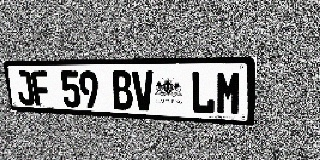5: (60, 71, 82, 108)
9: (78, 71, 100, 109)
B: (111, 71, 133, 110)
F: (30, 71, 51, 106)
J: (15, 71, 35, 106)
L: (191, 71, 215, 114)
M: (216, 71, 242, 116)
V: (132, 71, 155, 111)
